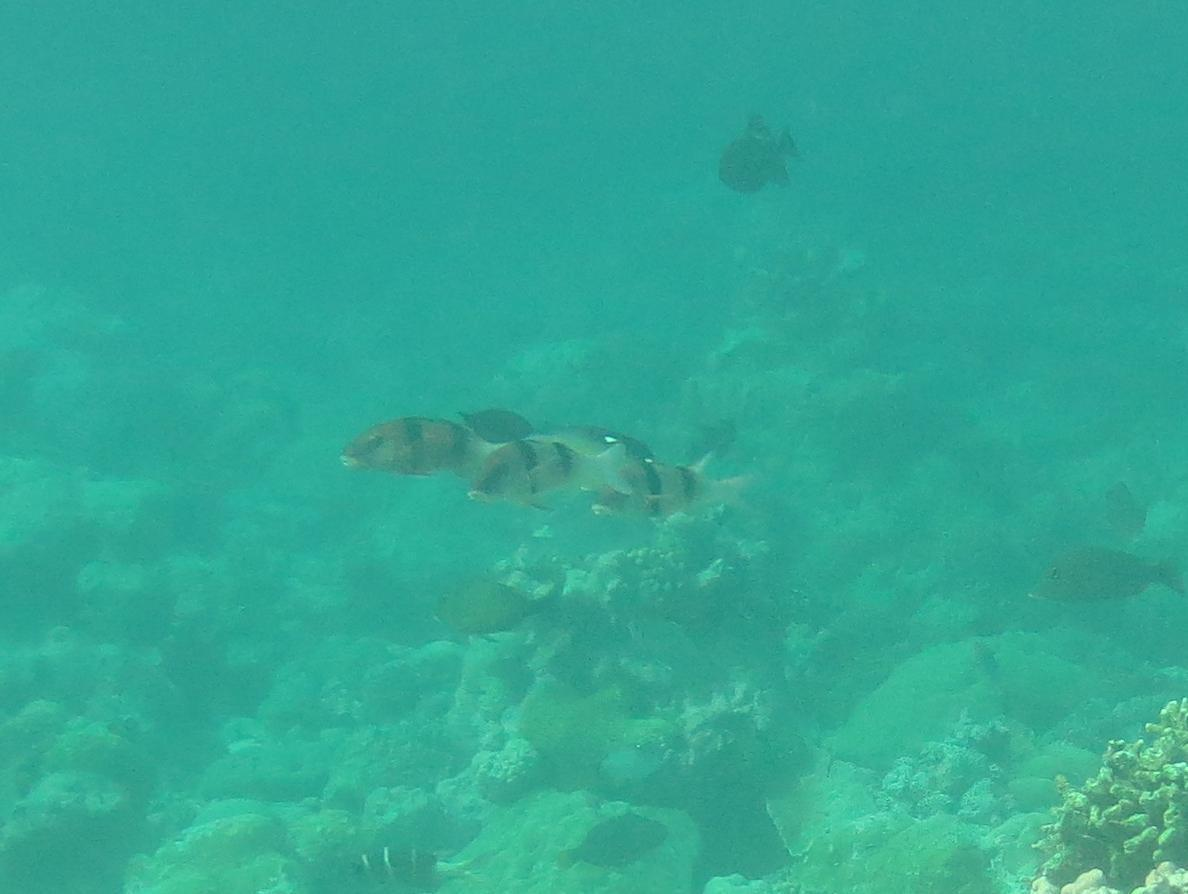Fish: (339, 400, 522, 509), (456, 428, 635, 522)
